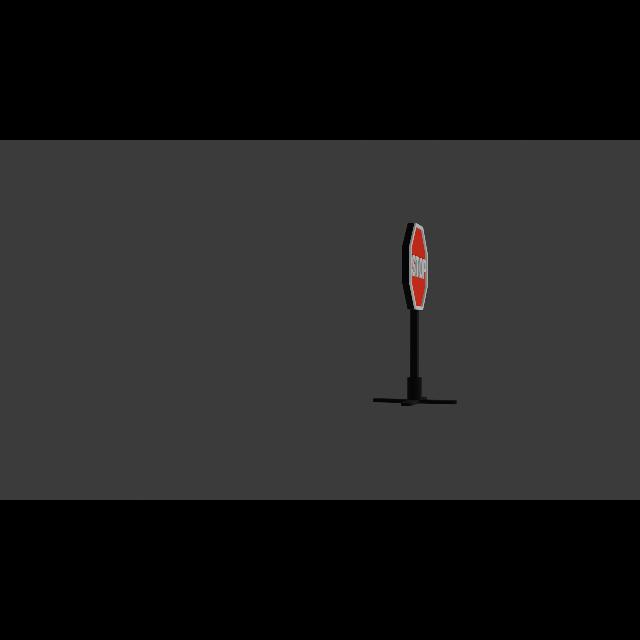sign_yield: (403, 223, 430, 311)
